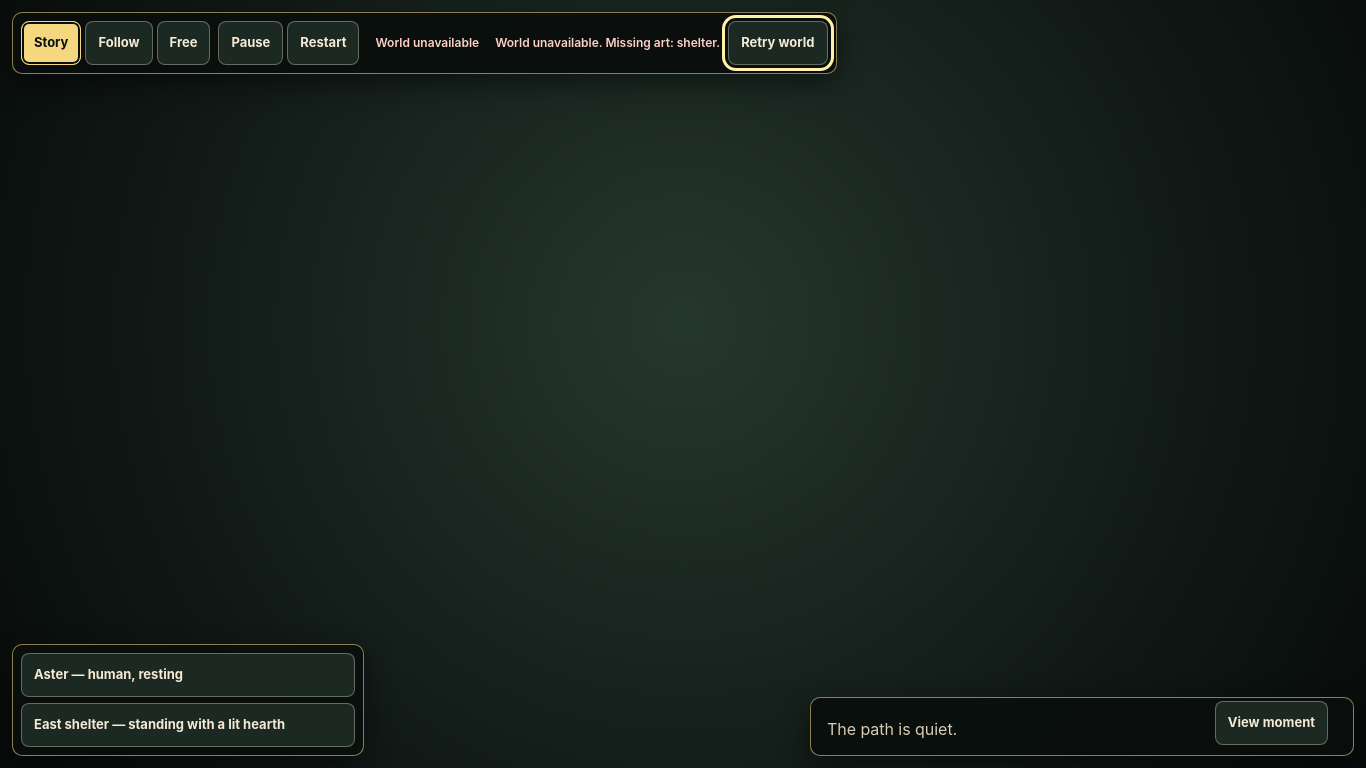
CanvasWorldStage › exposes a focused atlas failure alert and retries with a clean renderer
This screenshot has width=1366, height=768.
Expected: the message "World unavailable. Missing art: shelter. Retry world" is shown, [495, 21, 828, 65]
Click the button "Retry world" at [778, 43], box [728, 21, 828, 65]
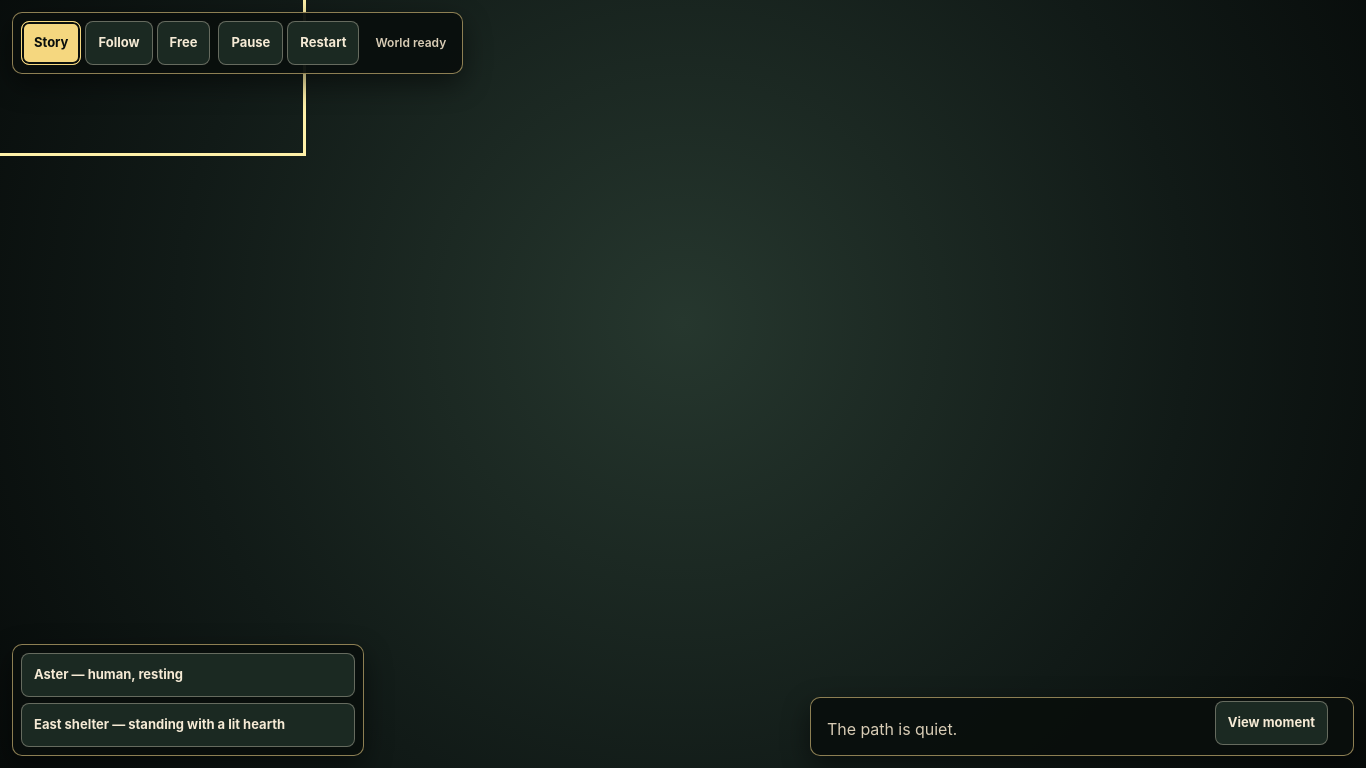
Now the message "World unavailable. Missing art: shelter. Retry world" is gone
